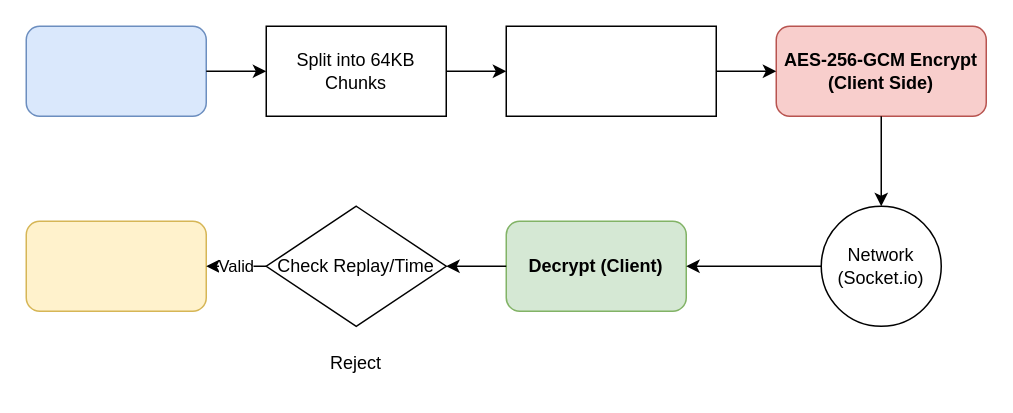
The diagram is 1013 pixels wide and 413 high, and some of its shapes have lost their labels. Each missing label, with the centre of its shape:
"Add Seq # + Timestamp" goes at (610,70).
"Display/Download" goes at (115,265).
"Input: File or Text" goes at (115,70).
